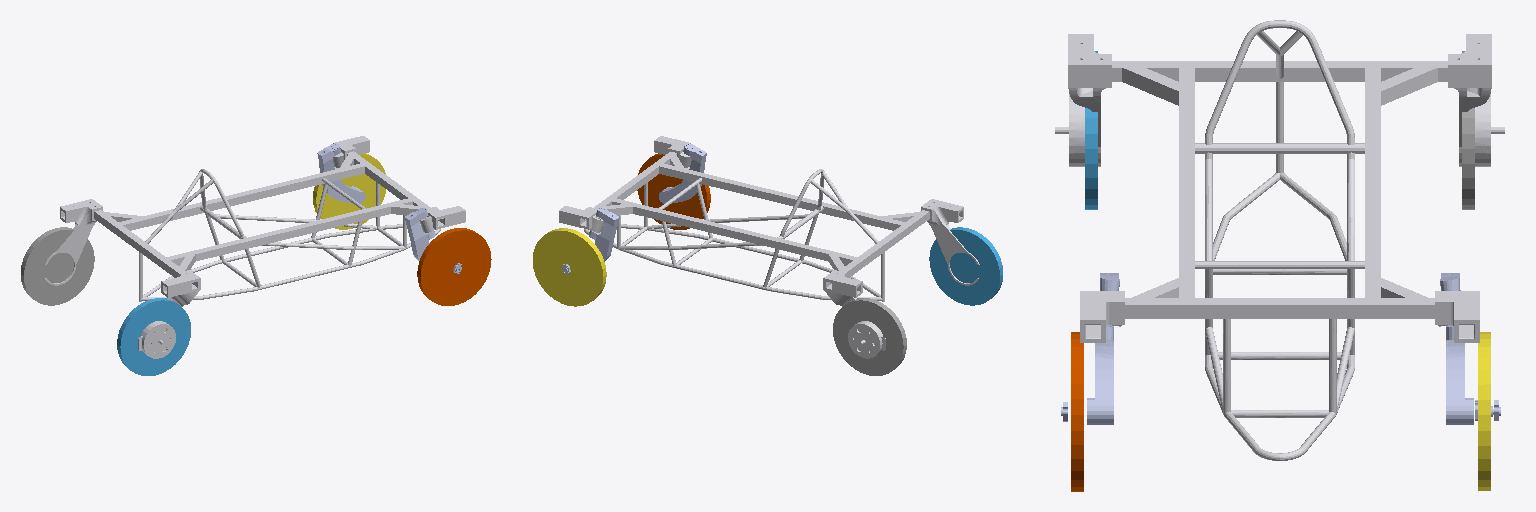
The robot description file, URDF, robot "asc":
<?xml version="1.0" encoding="utf-8"?>
<!-- THIS URDF IS DEPRECATED-->
<robot name="asc">
  <gazebo> 
    <plugin name="gazebo_ros_control" filename="libgazebo_ros_control.so">
      <robotNamespace>/asc</robotNamespace>
      <!--<robotParam>/robot_description</robotParam> -->
      <robotSimType>gazebo_ros_control/DefaultRobotHWSim</robotSimType>
    </plugin>
  </gazebo>
  <link name="base_link"/>
  <joint name="base_link_to_frame" type="fixed">
    <origin xyz="0 0 1" rpy="0 0 0"/>
    <parent link="base_link"/>
    <child link="frame_link"/>
    <axis xyz="0 0 1"/>
  </joint>
  <link name="frame_link">
    <inertial>
      <origin xyz="-0.191135074026536 0.00147037627768998 -0.144166350352701" rpy="0 0 0"/>
      <mass value="54.6845003989778"/>
      <inertia ixx="0.830289508168532" ixy="-7.44170925374484E-07" ixz="-0.168031775231281" iyy="1.89493024064907" iyz="3.6787232173372E-07" izz="1.80540947379668"/>
    </inertial>
    <visual>
      <origin xyz="0 0 0" rpy="0 0 0"/>
      <geometry>
        <mesh filename="package://asc_description/meshes/base_link.STL"/>
      </geometry>
      <material name="">
        <color rgba="0.866666666666667 0.866666666666667 0.890196078431372 1"/>
      </material>
    </visual>
    <!--
    <collision>
      <origin xyz="0 0 0" rpy="0 0 0"/>
      <geometry>
        <mesh filename="package://asc_description/meshes/base_link.STL"/>
      </geometry>
    </collision> -->
  </link>
  <link name="left_front_steering_link">
    <inertial>
      <origin xyz="-0.0439194980427094 -0.0123148656628935 -0.29574701698731" rpy="0 0 0"/>
      <mass value="5.71439015182903"/>
      <inertia ixx="0.138973038944984" ixy="0.00240438901312515" ixz="0.0320681563279578" iyy="0.160053837434921" iyz="-0.0109556260035955" izz="0.028546837728721"/>
    </inertial>
    <visual>
      <origin xyz="0 0 0" rpy="0 0 0"/>
      <geometry>
        <mesh filename="package://asc_description/meshes/left_front_steering_link.STL"/>
      </geometry>
      <material name="">
        <color rgba="0.792156862745098 0.819607843137255 0.933333333333333 1"/>
      </material>
    </visual>
    <collision>
      <origin xyz="0 0 0" rpy="0 0 0"/>
      <geometry>
        <mesh filename="package://asc_description/meshes/left_front_steering_link.STL"/>
      </geometry>
    </collision>
  </link>
  <joint name="left_front_steering_joint" type="revolute">
    <origin xyz="0.9825 0.63618 0.047063" rpy="0.13546 -0.28749 0.0037802"/>
    <parent link="frame_link"/>
    <child link="left_front_steering_link"/>
    <axis xyz="0 0 1"/>
    <limit lower="-0.8" upper="0.9" effort="100" velocity="100"/>
  </joint>
  <link name="left_front_wheel_link">
    <inertial>
      <origin xyz="-2.26485497023532E-14 4.10782519111308E-14 0.00509989314954018" rpy="0 0 0"/>
      <mass value="3.6905479088754"/>
      <inertia ixx="0.117114266308146" ixy="-6.93889390390723E-18" ixz="1.02756637900478E-17" iyy="0.117114266308146" iyz="-3.62378420062206E-17" izz="0.227951064044091"/>
    </inertial>
    <visual>
      <origin xyz="0 0 0" rpy="0 0 0"/>
      <geometry>
        <cylinder length="0.05" radius="0.3"/>
      </geometry>
    </visual>
    <collision>
      <origin xyz="0 0 0" rpy="0 0 0"/>
      <geometry>
        <cylinder length="0.05" radius="0.3"/>
      </geometry>
    </collision>
  </link>
  <joint name="left_front_wheel_joint" type="continuous">
    <origin xyz="0.065693 0.065054 -0.50813" rpy="-1.8471 1.0585 -0.24589"/>
    <parent link="left_front_steering_link"/>
    <child link="left_front_wheel_link"/>
    <axis xyz="0 0 1"/>
  </joint>
  <link name="right_front_steering_link">
    <inertial>
      <origin xyz="-0.0465182122250822 0.0145095544427134 -0.290619703564971" rpy="0 0 0"/>
      <mass value="5.57746367002881"/>
      <inertia ixx="0.138857493635095" ixy="-0.0022557465179349" ixz="0.032139397456901" iyy="0.160001336296301" iyz="0.0107272499121531" izz="0.0284811002523076"/>
    </inertial>
    <visual>
      <origin xyz="0 0 0" rpy="0 0 0"/>
      <geometry>
        <mesh filename="package://asc_description/meshes/right_front_steering_link.STL"/>
      </geometry>
      <material name="">
        <color rgba="0.792156862745098 0.819607843137255 0.933333333333333 1"/>
      </material>
    </visual>
    <collision>
      <origin xyz="0 0 0" rpy="0 0 0"/>
      <geometry>
        <mesh filename="package://asc_description/meshes/right_front_steering_link.STL"/>
      </geometry>
    </collision>
  </link>
  <joint name="right_front_steering_joint" type="revolute">
    <origin xyz="0.9825 -0.63318 0.047063" rpy="-0.13546 -0.28749 0.0037802"/>
    <parent link="frame_link"/>
    <child link="right_front_steering_link"/>
    <axis xyz="0 0 1"/>
    <limit lower="-0.8" upper="0.8" effort="100" velocity="100"/>
  </joint>
  <link name="right_front_wheel_link">
    <inertial>
      <origin xyz="-1.02140518265514E-14 6.85007606193722E-14 0.00509989314946457" rpy="0 0 0"/>
      <mass value="3.69054790887537"/>
      <inertia ixx="0.117114266308143" ixy="1.38777878078145E-17" ixz="2.37549730750149E-18" iyy="0.117114266308143" iyz="3.40770700491441E-17" izz="0.22795106404409"/>
    </inertial>
    <visual>
      <origin xyz="0 0 0" rpy="0 0 0"/>
      <geometry>
        <cylinder length="0.05" radius="0.3"/>
      </geometry>
    </visual>
    <collision>
      <origin xyz="0 0 0" rpy="0 0 0"/>
      <geometry>
        <cylinder length="0.05" radius="0.3"/>
      </geometry>
    </collision>
  </link>
  <joint name="right_front_wheel_joint" type="continuous">
    <origin xyz="0.065291 -0.059582 -0.50741" rpy="1.8455 1.0552 0.23683"/>
    <parent link="right_front_steering_link"/>
    <child link="right_front_wheel_link"/>
    <axis xyz="0 0 1"/>
  </joint>
  <!-- add fake rear steering joint-->
  <link name="left_rear_steer">
    <inertial>
      <origin xyz="0 0 0" rpy="0 0 0"/>
      <mass value="1"/>
      <inertia ixx="1.0" ixy="0.0" ixz="0.0" iyy="1.0" iyz="0.0" izz="1.0"/>
    </inertial>
  </link>
  <joint name="left_rear_steering_joint" type="revolute">
    <origin xyz="-1.3237 0.70906 -0.41261" rpy="0 0 0"/>
    <parent link="frame_link"/>
    <child link="left_rear_steer"/>
    <axis xyz="0 0 1"/>
    <limit lower="0" upper="0" effort="0" velocity="0"/>
  </joint>
  <link name="left_rear_wheel">
    <inertial>
      <origin xyz="8.43769498715119E-15 0.0589722640664191 -5.01820807130571E-14" rpy="0 0 0"/>
      <mass value="3.68939811577995"/>
      <inertia ixx="0.117113236563891" ixy="-4.42261767048626E-17" ixz="-6.93889390390723E-18" iyy="0.227950884881602" iyz="-3.11187820789416E-16" izz="0.117113236563891"/>
    </inertial>
    <visual>
      <origin xyz="0 0 0" rpy="1.57 0 0"/>
      <geometry>
        <cylinder length="0.05" radius="0.3"/>
      </geometry>
    </visual>
    <collision>
      <origin xyz="0 0 0" rpy="1.57 0 0"/>
      <geometry>
        <cylinder length="0.05" radius="0.3"/>
      </geometry>
    </collision>
  </link>
  <joint name="left_rear_wheel_joint" type="continuous">
    <origin xyz="0 0 0" rpy="0 0 0"/>
    <parent link="left_rear_steer"/>
    <child link="left_rear_wheel"/>
    <axis xyz="0 1 0"/>
  </joint>
  <!-- add fake rear steering joint-->
    <link name="right_rear_steer">
    <inertial>
      <origin xyz="0 0 0" rpy="0 0 0"/>
      <mass value="1"/>
      <inertia ixx="1.0" ixy="0.0" ixz="0.0" iyy="1.0" iyz="0.0" izz="1.0"/>
    </inertial>
  </link>
  <joint name="right_rear_steering_joint" type="revolute">
    <origin xyz="-1.3237 -0.70606 -0.41261" rpy="0 0 0"/>
    <parent link="frame_link"/>
    <child link="right_rear_steer"/>
    <axis xyz="0 0 1"/>
    <limit lower="0" upper="0" effort="0" velocity="0"/>
  </joint>
  <link name="right_rear_wheel">
    <inertial>
      <origin xyz="7.99360577730113E-15 0.0589722640664192 4.2410519540681E-14" rpy="0 0 0"/>
      <mass value="3.68939811577991"/>
      <inertia ixx="0.117113236563893" ixy="-4.66966016159301E-17" ixz="4.33680868994202E-18" iyy="0.2279508848816" iyz="3.34438350256477E-16" izz="0.117113236563893"/>
    </inertial>
    <visual>
      <origin xyz="0 0 0" rpy="1.57 0 0"/>
      <geometry>
        <cylinder length="0.05" radius="0.3"/>
      </geometry>
    </visual>
    <collision>
      <origin xyz="0 0 0" rpy="1.57 0 0"/>
      <geometry>
        <cylinder length="0.05" radius="0.3"/>
      </geometry>
    </collision>
  </link>
  <joint name="right_rear_wheel_joint" type="continuous">
    <origin xyz="0 0 0" rpy="0 0 0"/>
    <parent link="right_rear_steer"/>
    <child link="right_rear_wheel"/>
    <axis xyz="0 1 0"/>
  </joint>
  <transmission name="tran1">
    <type>transmission_interface/SimpleTransmission</type>
    <joint name="left_rear_wheel_joint">
      <hardwareInterface>hardware_interface/VelocityJointInterface</hardwareInterface>
    </joint>
    <actuator name="motor1">
      <hardwareInterface>hardware_interface/VelocityJointInterface</hardwareInterface>
      <mechanicalReduction>1</mechanicalReduction>
    </actuator>
  </transmission>
  <transmission name="tran2">
    <type>transmission_interface/SimpleTransmission</type>
    <joint name="right_rear_wheel_joint">
      <hardwareInterface>hardware_interface/VelocityJointInterface</hardwareInterface>
    </joint>
    <actuator name="motor2">
      <hardwareInterface>hardware_interface/VelocityJointInterface</hardwareInterface>
      <mechanicalReduction>1</mechanicalReduction>
    </actuator>
  </transmission>
  <!-- Transmissions for steering joints-->
  <transmission name="tran3">
    <type>transmission_interface/SimpleTransmission</type>
    <joint name="left_front_steering_joint">
      <hardwareInterface>hardware_interface/PositionJointInterface</hardwareInterface>
    </joint>
    <actuator name="motor3">
      <hardwareInterface>hardware_interface/PositionJointInterface</hardwareInterface>
      <mechanicalReduction>1</mechanicalReduction>
    </actuator>
  </transmission>
  <transmission name="tran4">
    <type>transmission_interface/SimpleTransmission</type>
    <joint name="right_front_steering_joint">
      <hardwareInterface>hardware_interface/PositionJointInterface</hardwareInterface>
    </joint>
    <actuator name="motor4">
      <hardwareInterface>hardware_interface/PositionJointInterface</hardwareInterface>
      <mechanicalReduction>1</mechanicalReduction>
    </actuator>
  </transmission>
  <!-- Transmissions for fake steering joints-->
  <transmission name="tran5">
    <type>transmission_interface/SimpleTransmission</type>
    <joint name="left_rear_steering_joint">
      <hardwareInterface>hardware_interface/PositionJointInterface</hardwareInterface>
    </joint>
    <actuator name="motor5">
      <hardwareInterface>hardware_interface/PositionJointInterface</hardwareInterface>
      <mechanicalReduction>1</mechanicalReduction>
    </actuator>
  </transmission>
  <transmission name="tran6">
    <type>transmission_interface/SimpleTransmission</type>
    <joint name="right_rear_steering_joint">
      <hardwareInterface>hardware_interface/PositionJointInterface</hardwareInterface>
    </joint>
    <actuator name="motor6">
      <hardwareInterface>hardware_interface/PositionJointInterface</hardwareInterface>
      <mechanicalReduction>1</mechanicalReduction>
    </actuator>
  </transmission>
  <transmission name="tran7">
    <type>transmission_interface/SimpleTransmission</type>
    <joint name="left_front_wheel_joint">
      <hardwareInterface>hardware_interface/VelocityJointInterface</hardwareInterface>
    </joint>
    <actuator name="motor7">
      <hardwareInterface>hardware_interface/VelocityJointInterface</hardwareInterface>
      <mechanicalReduction>1</mechanicalReduction>
    </actuator>
  </transmission>
  <transmission name="tran8">
    <type>transmission_interface/SimpleTransmission</type>
    <joint name="right_front_wheel_joint">
      <hardwareInterface>hardware_interface/VelocityJointInterface</hardwareInterface>
    </joint>
    <actuator name="motor8">
      <hardwareInterface>hardware_interface/VelocityJointInterface</hardwareInterface>
      <mechanicalReduction>1</mechanicalReduction>
    </actuator>
  </transmission>
  <!-- Transmission for front wheels -->
  <!--
  <transmission name="tran5">
    <type>transmission_interface/SimpleTransmission</type>
    <joint name="left_front_wheel_joint">
      <hardwareInterface>hardware_interface/VelocityJointInterface</hardwareInterface>
    </joint>
    <actuator name="motor5">
      <hardwareInterface>hardware_interface/VelocityJointInterface</hardwareInterface>
      <mechanicalReduction>1</mechanicalReduction>
    </actuator>
  </transmission>
  <transmission name="tran6">
    <type>transmission_interface/SimpleTransmission</type>
    <joint name="right_front_wheel_joint">
      <hardwareInterface>hardware_interface/VelocityJointInterface</hardwareInterface>
    </joint>
    <actuator name="motor6">
      <hardwareInterface>hardware_interface/VelocityJointInterface</hardwareInterface>
      <mechanicalReduction>1</mechanicalReduction>
    </actuator>
  </transmission> -->
  <!--
  <gazebo>
    <plugin name="differential_drive_controller" filename="libgazebo_ros_diff_drive.so">
      <robotNamespace>/</robotNamespace>
      <alwaysOn>false</alwaysOn>
      <updateRate>100</updateRate>
      <leftJoint>left_rear_wheel_joint</leftJoint>
      <rightJoint>right_rear_wheel_joint</rightJoint>
      <wheelSeparation>1.0</wheelSeparation>
      <wheelDiameter>0.4</wheelDiameter>
      <torque>20</torque>
      <commandTopic>cmd_vel</commandTopic>
      <odometryTopic>asc/odom</odometryTopic>
      <odometryFrame>map</odometryFrame>
      <robotBaseFrame>base_link</robotBaseFrame>
      <legacyMode>false</legacyMode>
      <rosDebugLevel>Debug</rosDebugLevel>
      <publishWheelTF>true</publishWheelTF>
      <publishWheelJointState>true</publishWheelJointState>
      <wheelAcceleration>5</wheelAcceleration>
      <wheelTorque>20</wheelTorque>
      <publishTf>1</publishTf>
      <odometrySource>encoder</odometrySource>
    </plugin>
  </gazebo>-->
  <!-- Extra joints for defining middle for the ackermann steering -->
</robot>

--- What the picture shows (computed from the rendered views, not written in the file) ---
The picture shows the robot from 3 angles, left to right: view 1: azimuth 30°, elevation 25°; view 2: azimuth 150°, elevation 25°; view 3: azimuth 270°, elevation 25°; orthographic projection.
Robot: asc — 10 links, 9 joints (4 revolute, 4 continuous, 1 fixed); root link base_link; default pose: all joints at 0.
Visible links, largest first — view 1: frame_link, right_front_wheel_link, left_rear_wheel, right_rear_wheel, left_front_wheel_link, left_front_steering_link, right_front_steering_link; view 2: frame_link, left_front_wheel_link, right_rear_wheel, left_rear_wheel, right_front_wheel_link, right_front_steering_link, left_front_steering_link; view 3: frame_link, left_front_steering_link, right_front_steering_link, left_front_wheel_link, right_front_wheel_link, left_rear_wheel, right_rear_wheel.
Boxes of the visible links, x1,y1,x2,y2 form: frame_link: (44,136,465,358); right_front_wheel_link: (417,228,491,305); left_rear_wheel: (21,227,94,305); right_rear_wheel: (117,298,190,375); left_front_wheel_link: (313,153,385,229); left_front_steering_link: (317,143,365,203); right_front_steering_link: (405,208,461,273); frame_link: (559,136,979,358); left_front_wheel_link: (533,228,606,306); right_rear_wheel: (929,227,1002,305); left_rear_wheel: (833,298,906,375); right_front_wheel_link: (637,153,710,229); right_front_steering_link: (659,143,706,203); left_front_steering_link: (562,208,619,273); frame_link: (1055,20,1504,460); left_front_steering_link: (1440,273,1500,424); right_front_steering_link: (1061,273,1119,424); left_front_wheel_link: (1478,332,1490,490); right_front_wheel_link: (1071,332,1083,491); left_rear_wheel: (1462,51,1474,209); right_rear_wheel: (1085,51,1097,209).
Size in the robot's own frame: 3.12 by 1.69 by 1.15 metres.
3 mesh visuals loaded from 3 distinct referenced files (3 binary STL).
